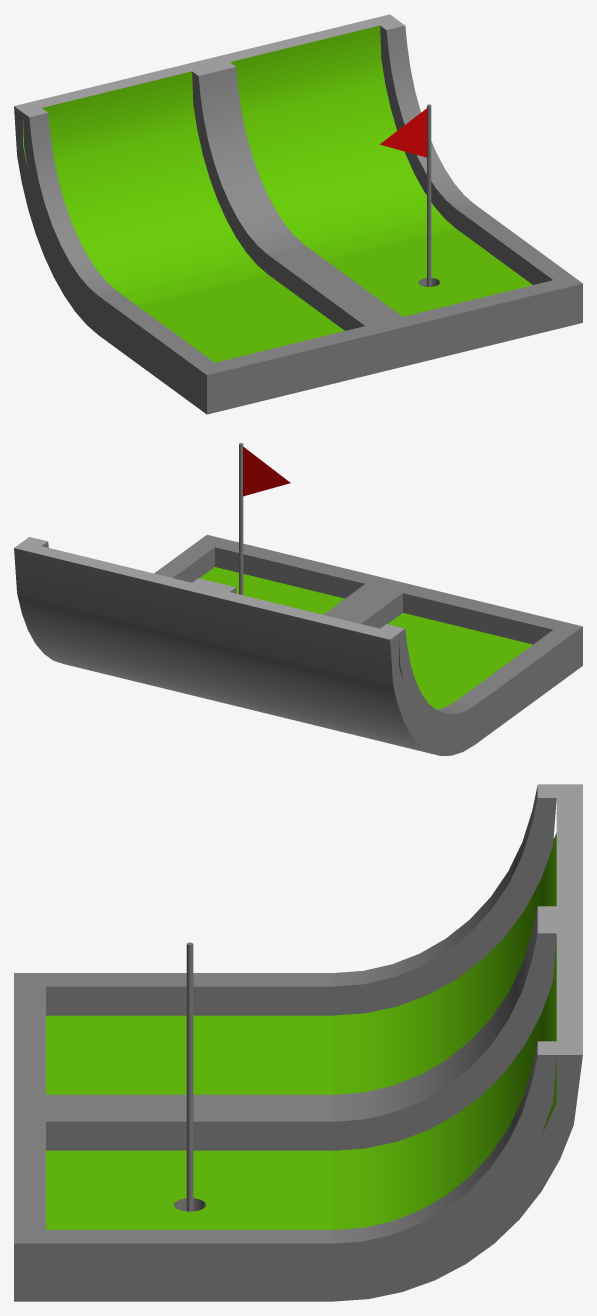
Rendered from course6.fbx.
3 renders of one model, top to bottom at view 1: azimuth 30°, elevation 25°; view 2: azimuth 150°, elevation 25°; view 3: azimuth 270°, elevation 25°, orthographic. The views are drawn at different scales.
Visible parts, largest first — view 1: middle14, middle15, start7, polySurface3, polySurface4, polySurface2; view 2: middle14, middle15, start7, polySurface3, polySurface2, polySurface4; view 3: polySurface3, middle15, start7, middle14, polySurface4.
Boxes of the visible parts, left/top/right/bottom form: middle14: left=14, top=60, right=285, bottom=334; middle15: left=202, top=14, right=473, bottom=259; start7: left=98, top=250, right=394, bottom=414; polySurface3: left=287, top=204, right=582, bottom=368; polySurface4: left=381, top=104, right=431, bottom=286; polySurface2: left=380, top=108, right=427, bottom=157; middle14: left=202, top=582, right=474, bottom=755; middle15: left=14, top=537, right=249, bottom=709; start7: left=342, top=580, right=582, bottom=744; polySurface3: left=154, top=534, right=394, bottom=619; polySurface2: left=243, top=446, right=290, bottom=495; polySurface4: left=239, top=443, right=287, bottom=594; polySurface3: left=14, top=1108, right=333, bottom=1301; middle15: left=334, top=919, right=582, bottom=1301; start7: left=14, top=973, right=333, bottom=1108; middle14: left=334, top=784, right=582, bottom=1108; polySurface4: left=186, top=942, right=193, bottom=1211.
Size of the model in its own units: 20 by 10 by 17.78.
